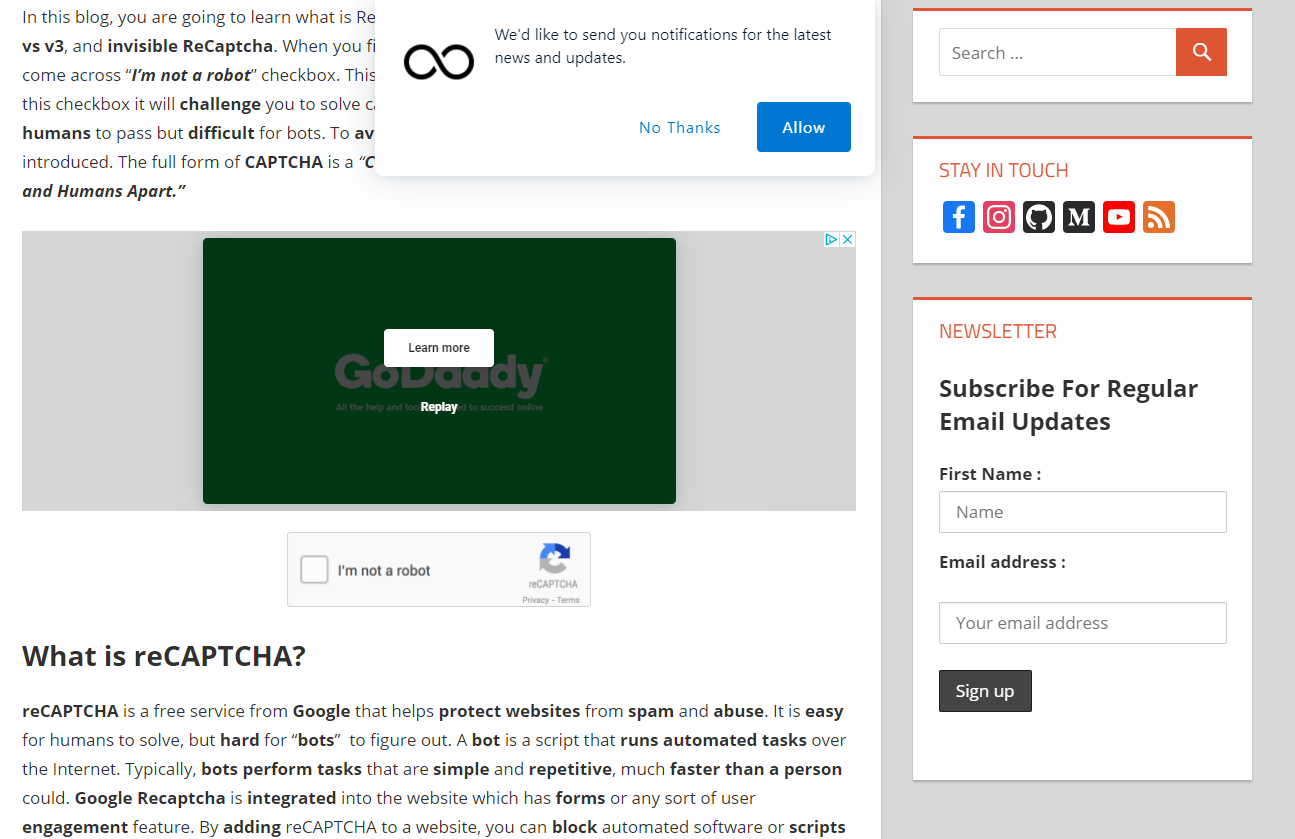captcha: (286, 529, 592, 607)
